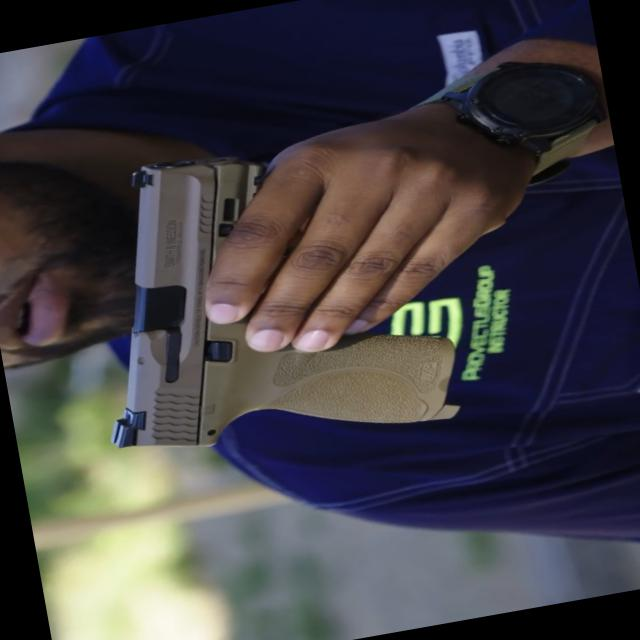handgun: (67, 98, 457, 500)
